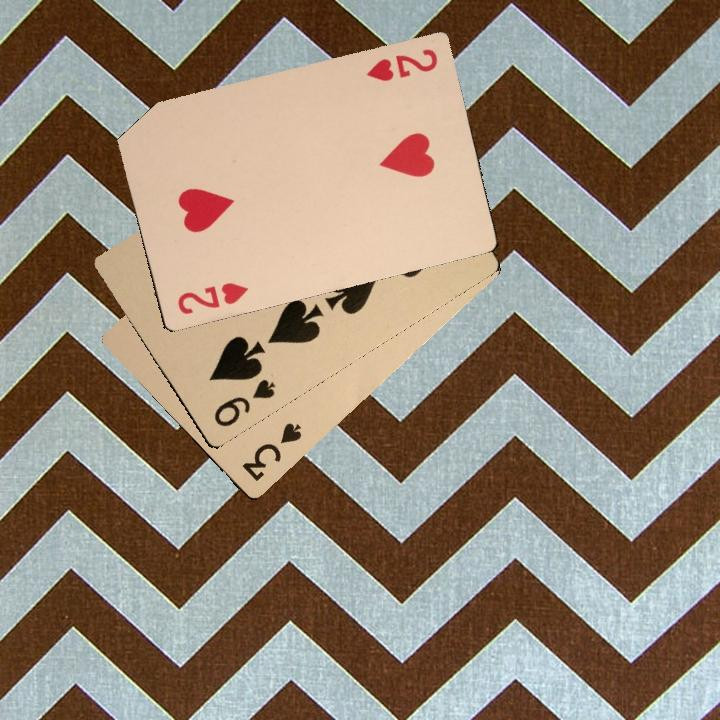2h: (362, 44, 440, 84), (173, 278, 250, 317)
3s: (238, 418, 305, 484)
9s: (209, 374, 278, 430)
